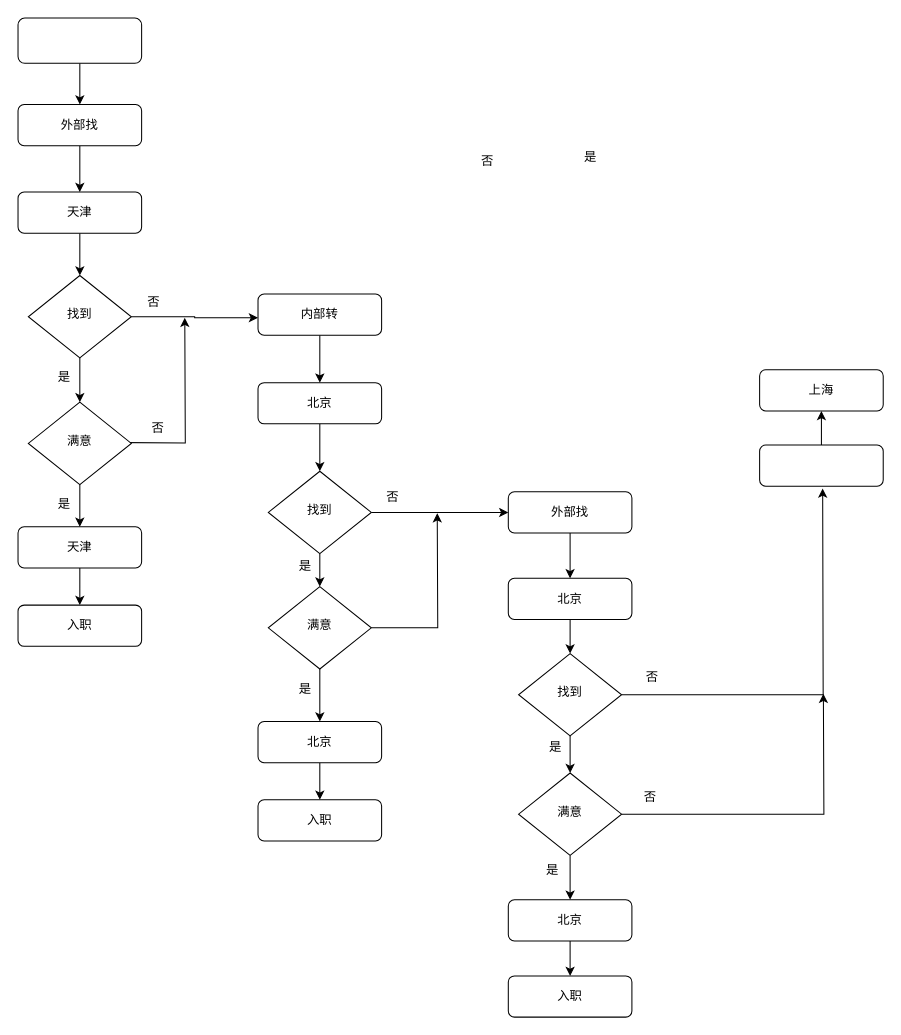
Image size: 901x1035. Some labels were removed from this diagram. Each missing label, with the box of its shape:
开始: (17, 17, 142, 63)
继续呆着: (759, 444, 883, 486)
